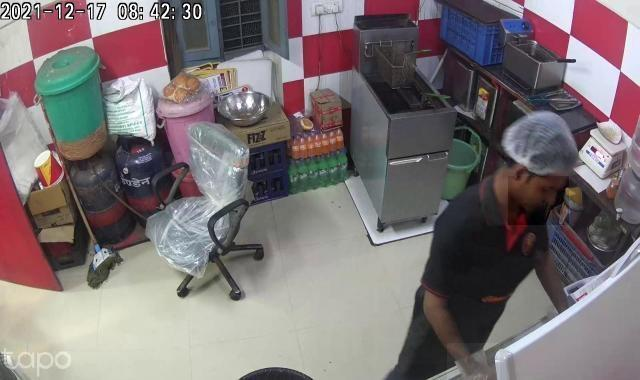apron: (447, 343, 500, 380)
gloves: (502, 110, 580, 178)
no_hairnet: (509, 176, 570, 226)
